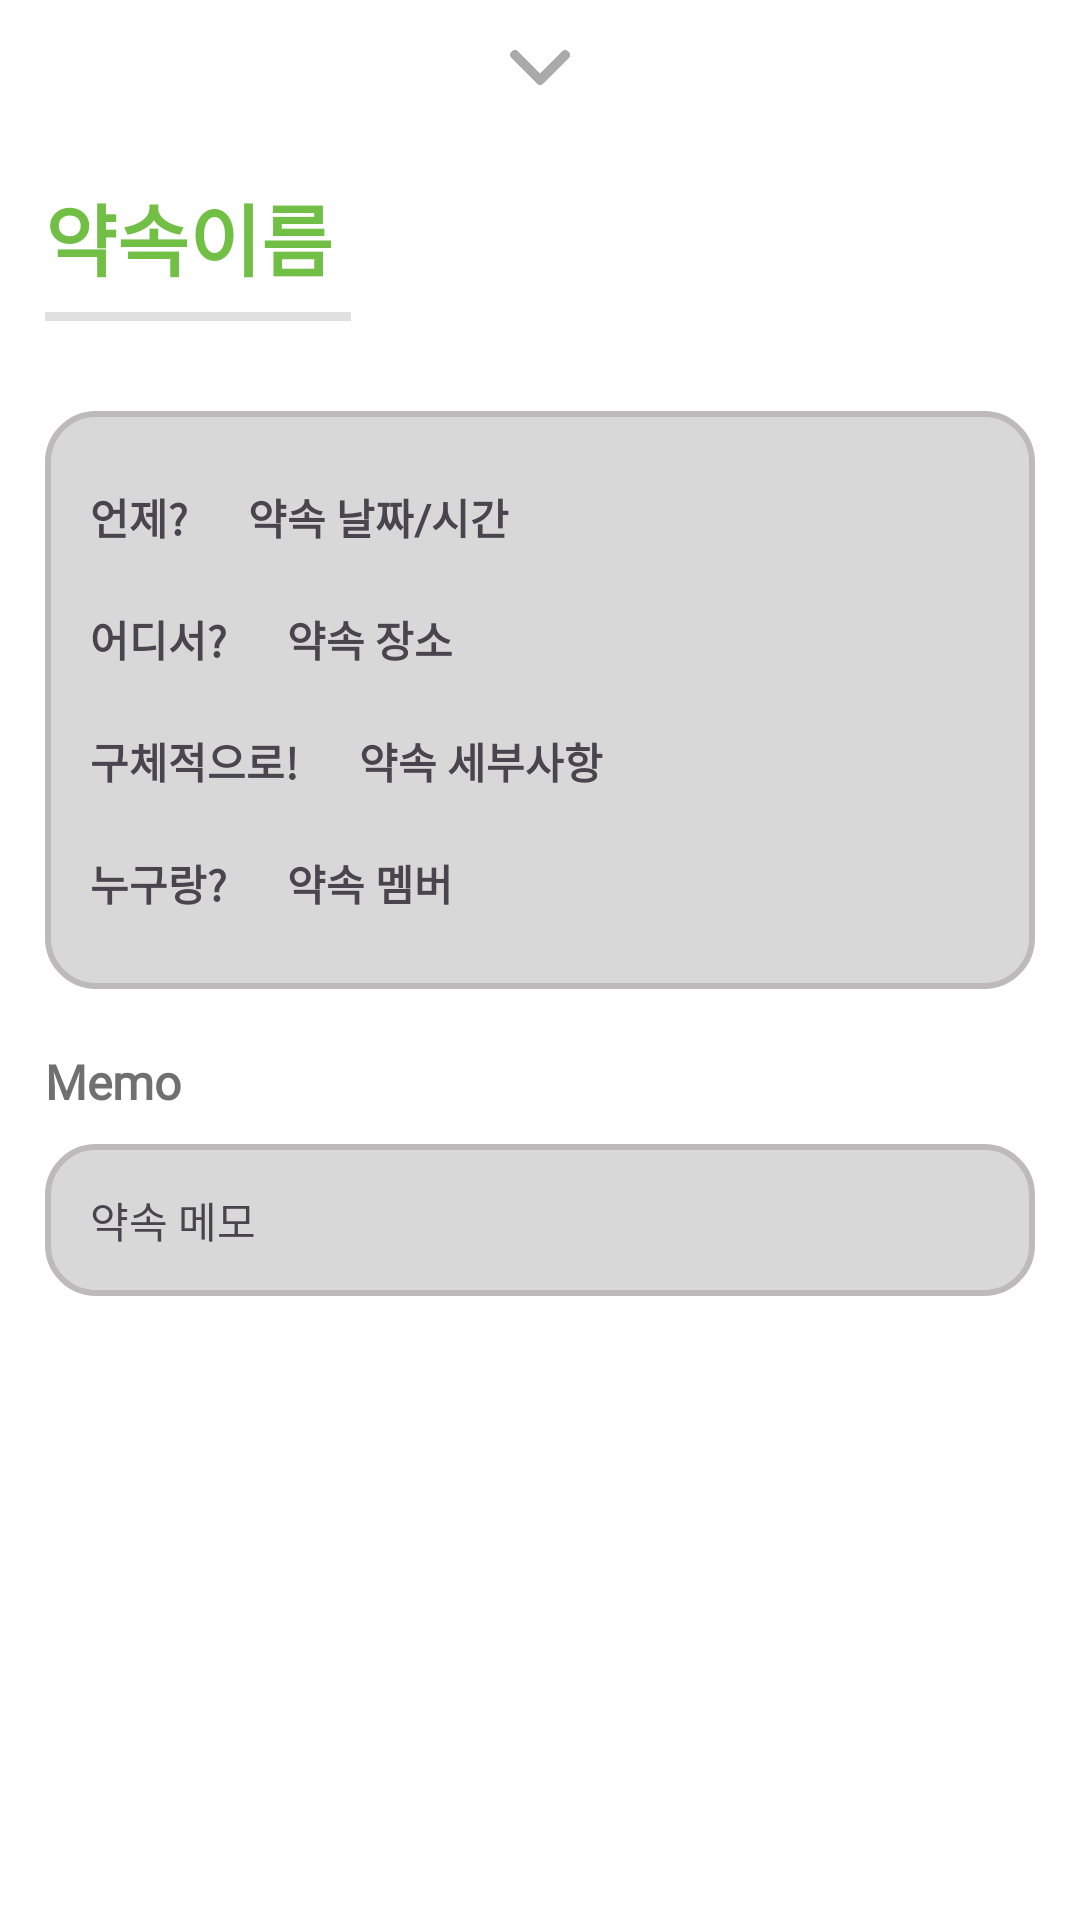

Icons on this 1080x1920 Android screen, each with the point to tap as point (x, y):
down arrow: point (540, 67)
